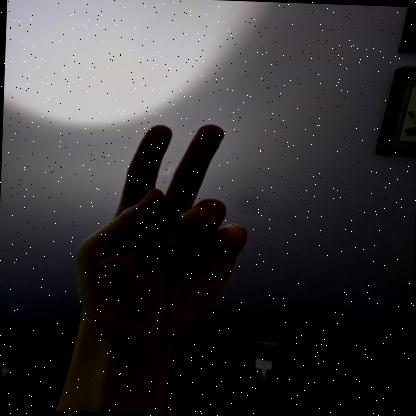K: (76, 124, 247, 344)
